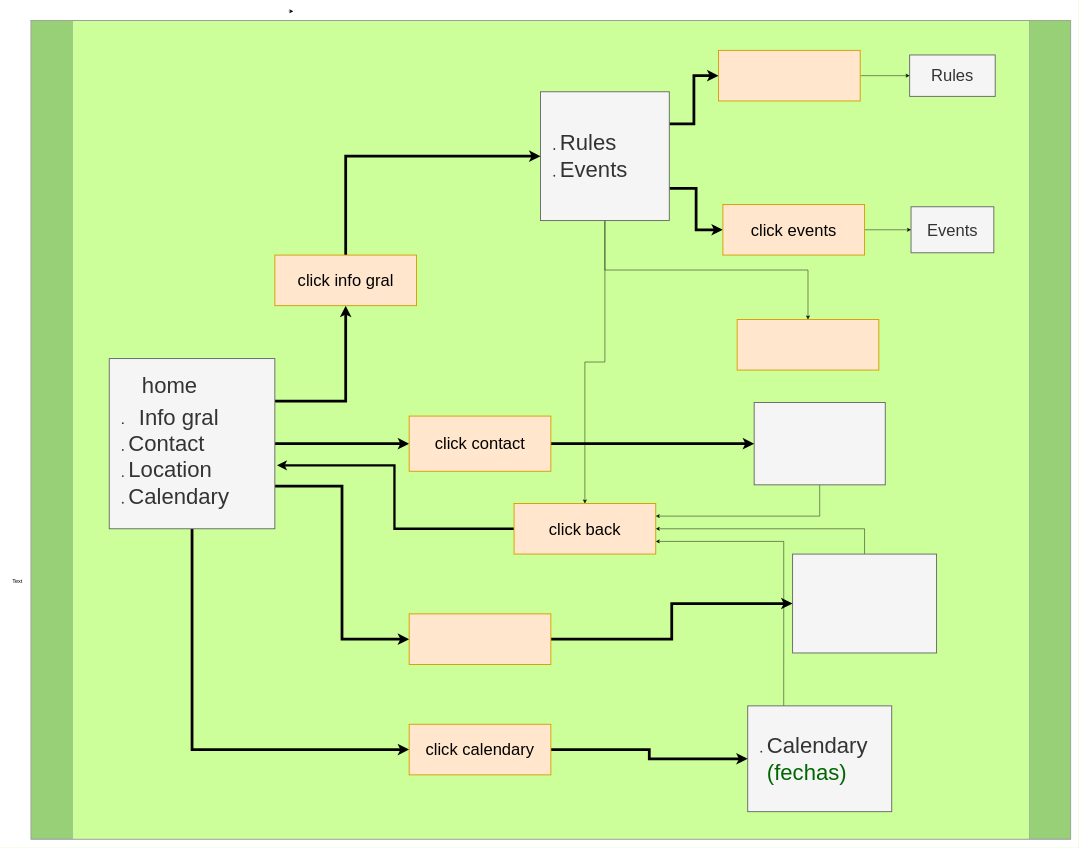
This 1079x848 diagram has some shape labels left out. The centre of each missing label's shape, as x and y in pixels:
click location: the point at 479,639
click rules: the point at 789,75
Contact ( Email-Box): the point at 819,443
Location (mapas): the point at 864,603
se activa con eventos onclick: the point at 807,344
